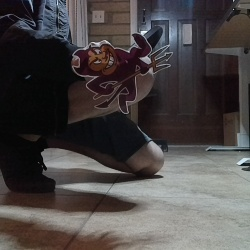sparky: (70, 32, 173, 114)
